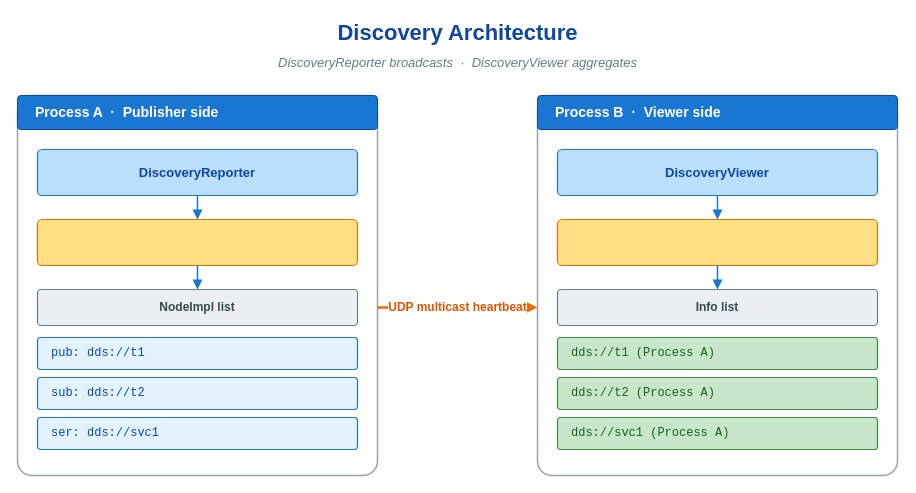
This 916x493 diagram has some shape labels left out. The centre of each missing label's shape, as x and y in pixels:
"Background loop broadcast" goes at (197,242).
"Subscribe and aggregate" goes at (717,242).
